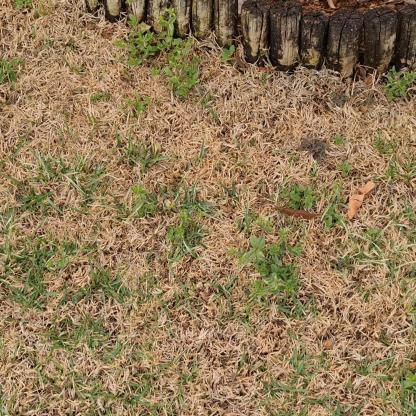Weeds: (113, 7, 200, 100), (228, 217, 308, 310), (127, 177, 204, 261), (280, 180, 343, 229)
